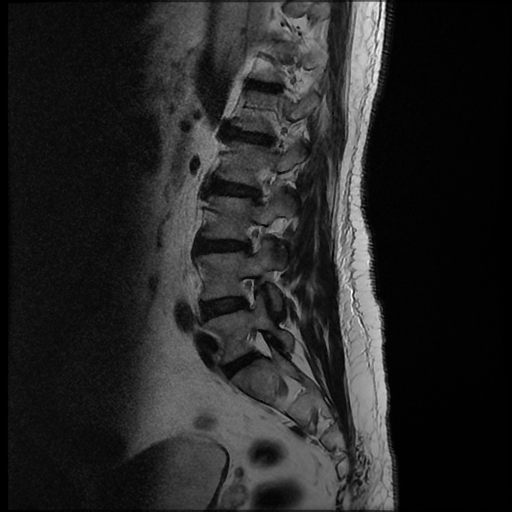LFS0: (230, 268, 266, 318), (235, 213, 271, 263)
